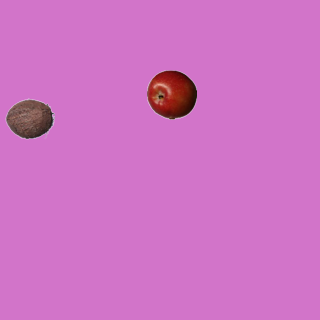Apple Braeburn: (146, 69, 196, 119)
Cocos: (4, 93, 54, 143)
